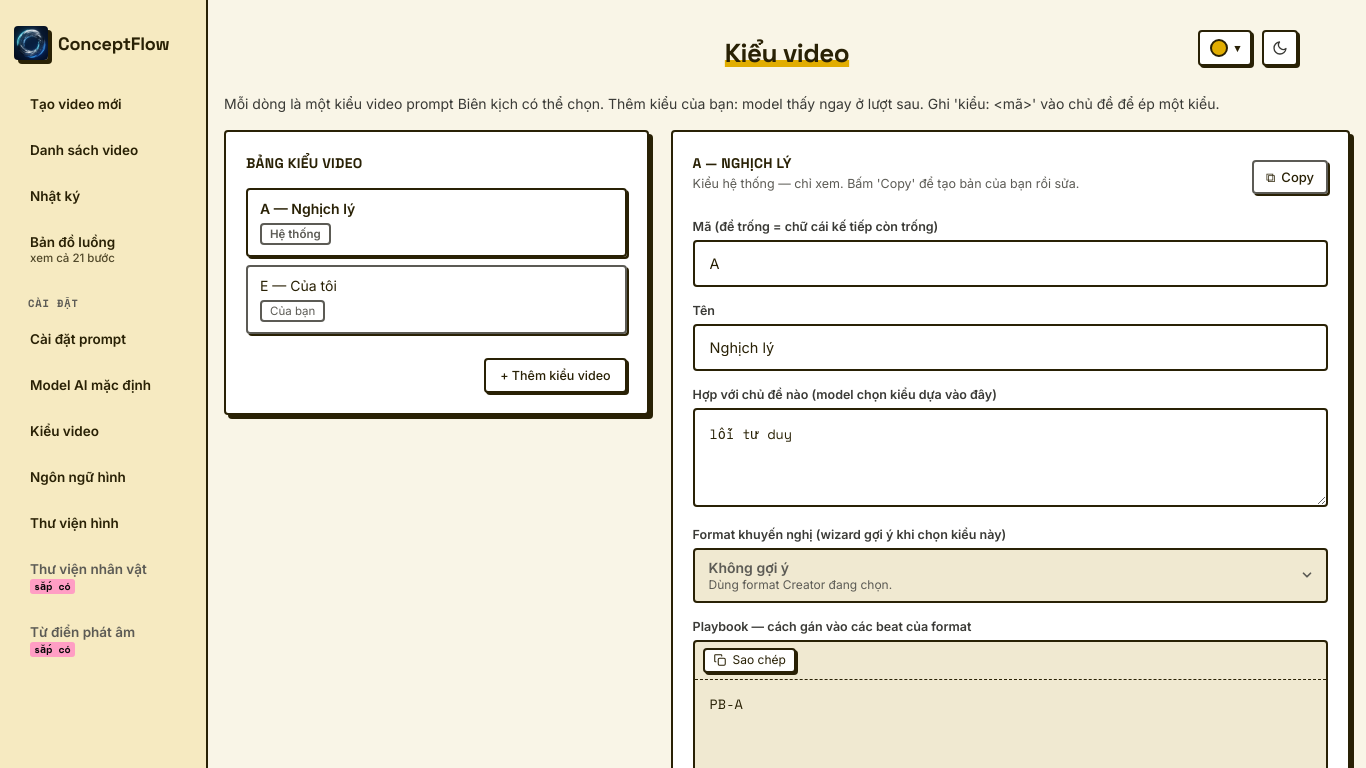
Test case: VideoArchetypeSettingsPage › shows the server's reason when a save is refused
The image size is (1366, 768).
Click the button with test id "archetype-row-u1". click: (314, 285)
box: 246,265 -> 627,334
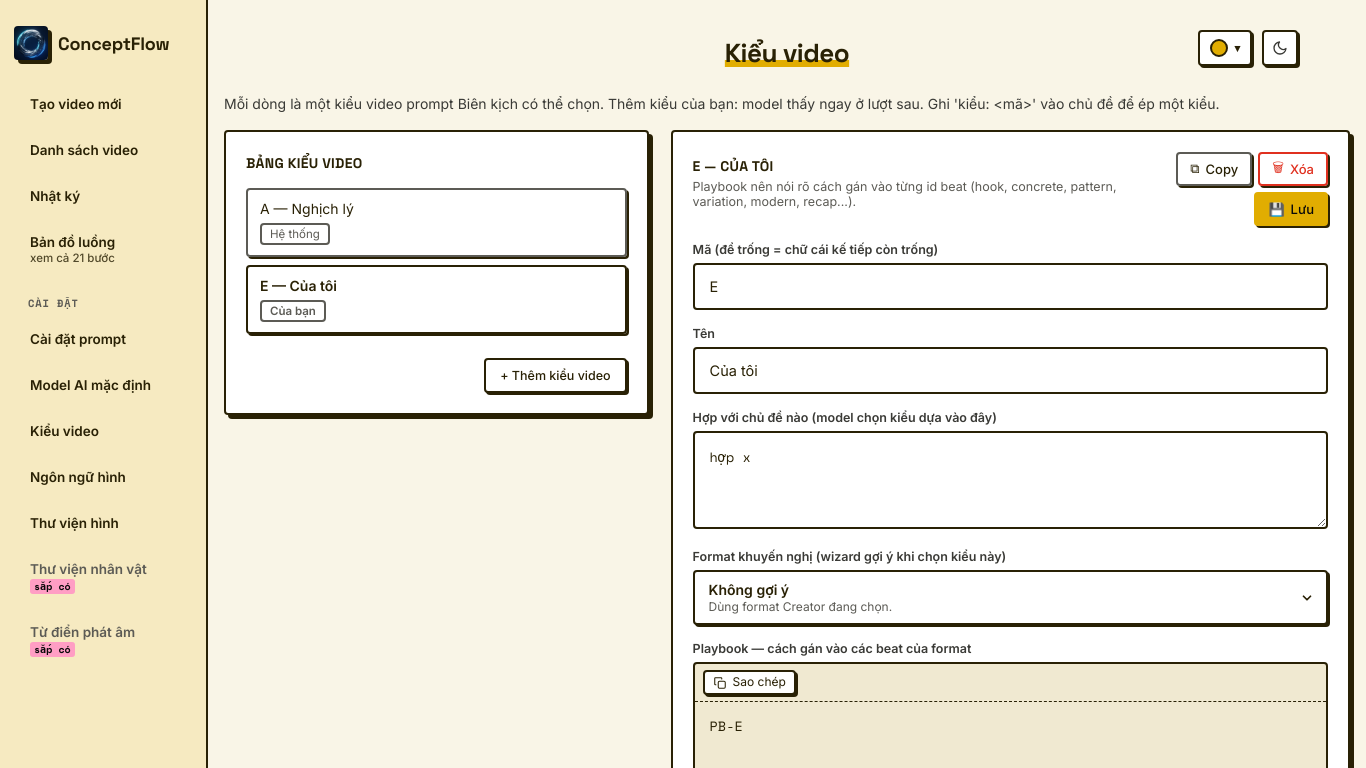
Now the field with test id "archetype-name-input" holds "Của tôi", box 693,347 -> 1328,394
Click the button with test id "archetype-save-button". click: (1291, 209)
box: 1254,192 -> 1328,226
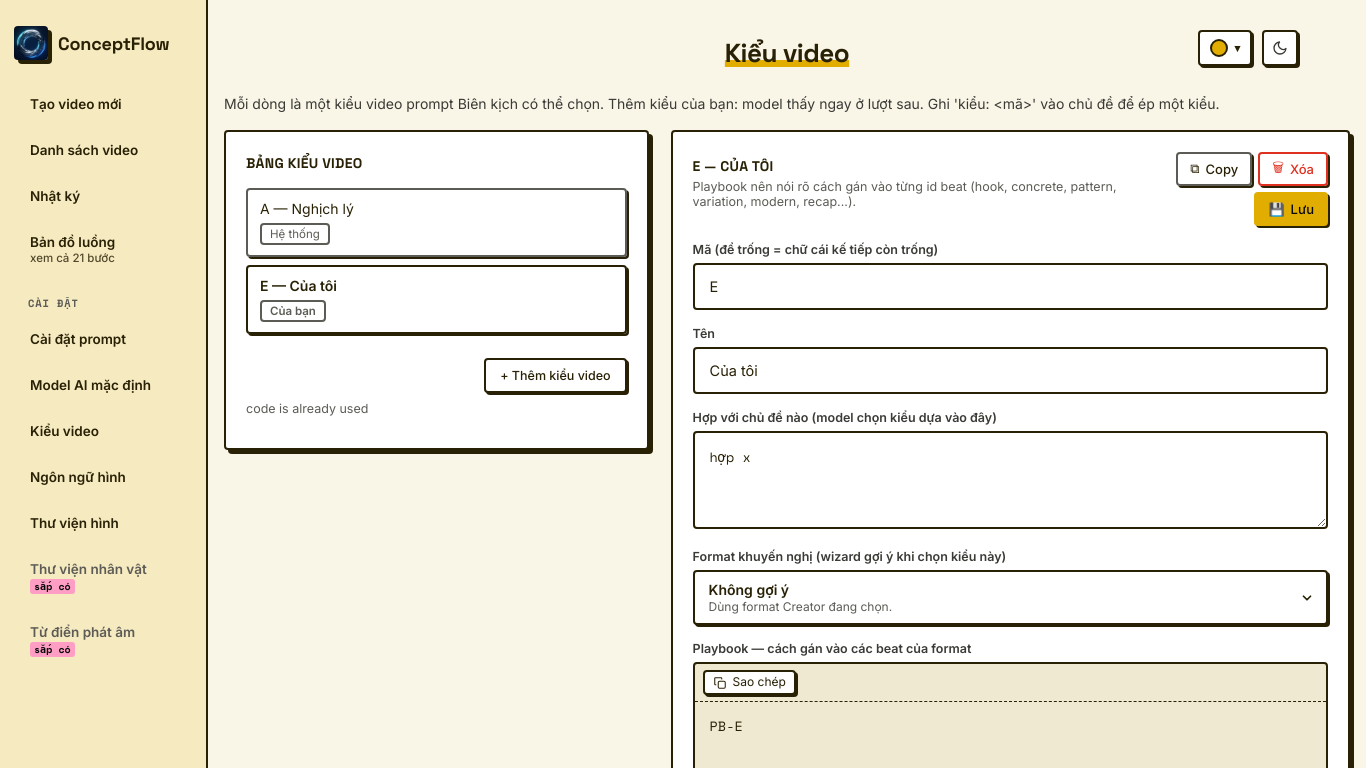
Now the text with test id "archetype-status" reads "code is already used", box 246,401 -> 368,416
